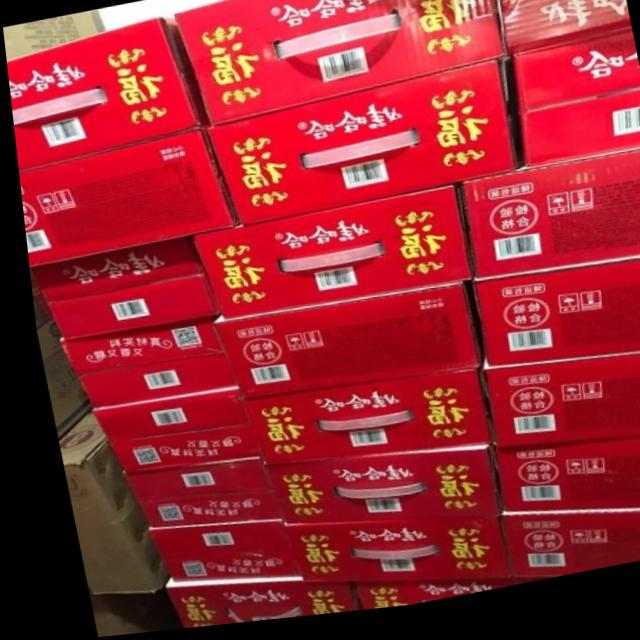box: (203, 69, 519, 229), (173, 0, 506, 130), (187, 190, 467, 322), (204, 291, 475, 403), (5, 21, 204, 172), (15, 130, 232, 267), (450, 160, 640, 289), (232, 377, 485, 470), (48, 406, 156, 595), (23, 237, 210, 340), (464, 269, 640, 375), (509, 40, 640, 181), (252, 456, 491, 528), (472, 362, 640, 459), (269, 524, 498, 589), (53, 323, 224, 408), (81, 391, 250, 474), (485, 517, 640, 594), (483, 446, 640, 521), (113, 461, 270, 531), (151, 580, 345, 631), (24, 270, 81, 439), (497, 0, 629, 66), (135, 525, 286, 581), (2, 12, 107, 61), (339, 588, 500, 616), (75, 593, 152, 638)
